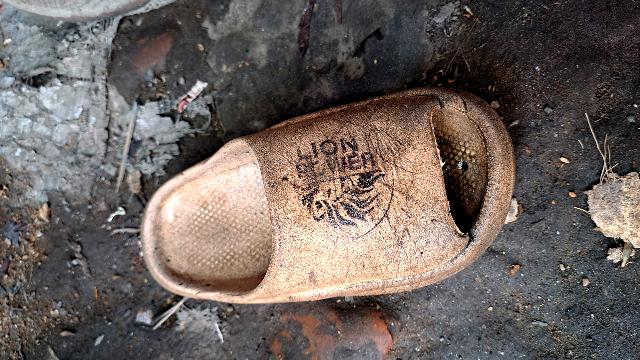sandal: (100, 56, 550, 306)
